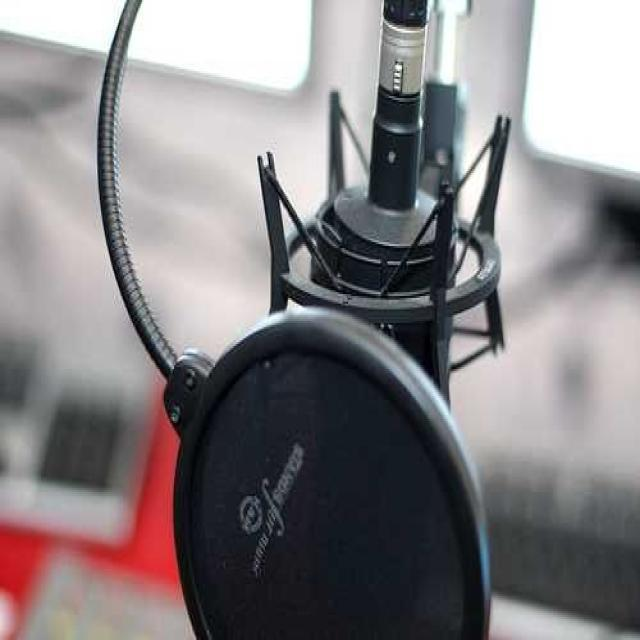microphone: (216, 4, 526, 548)
